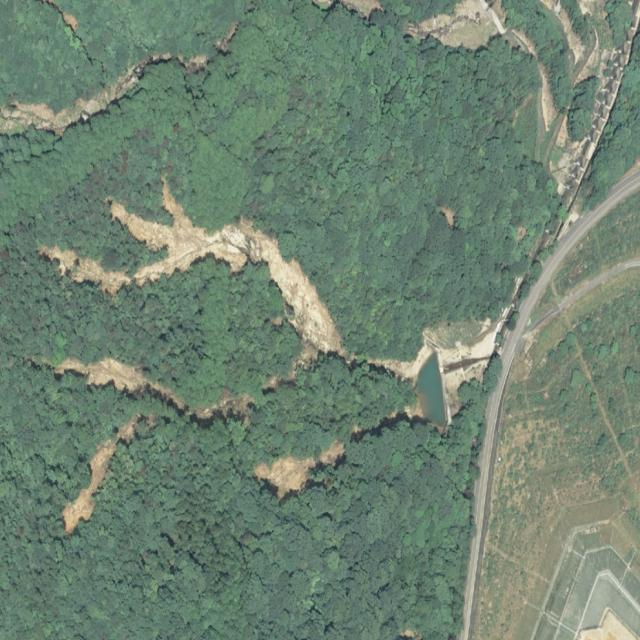landslide: (38, 177, 347, 357), (53, 358, 185, 411), (61, 439, 115, 534), (254, 456, 315, 499), (318, 439, 345, 467)
